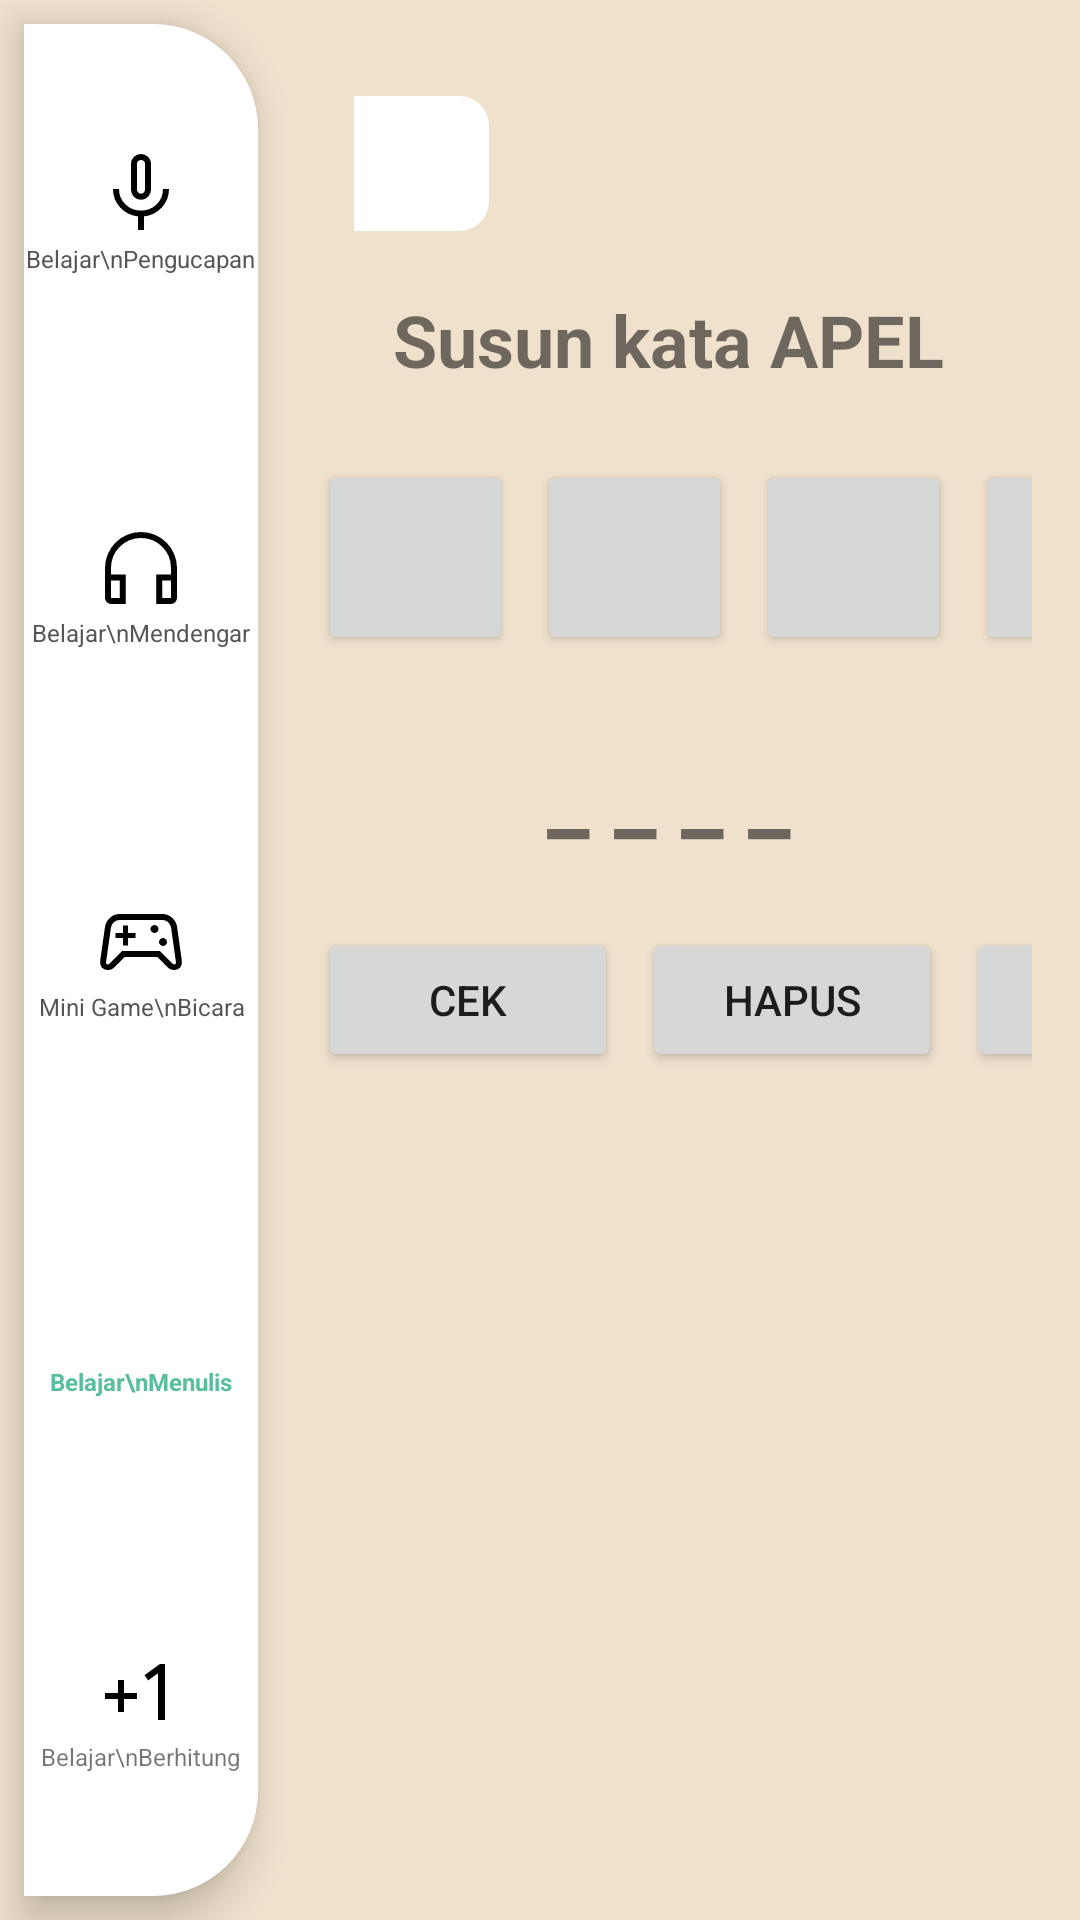

Named icons in this screenshot (1080x1920) and their centers, (x=x, y=y):
headset: (x=141, y=568)
mic: (x=141, y=192)
